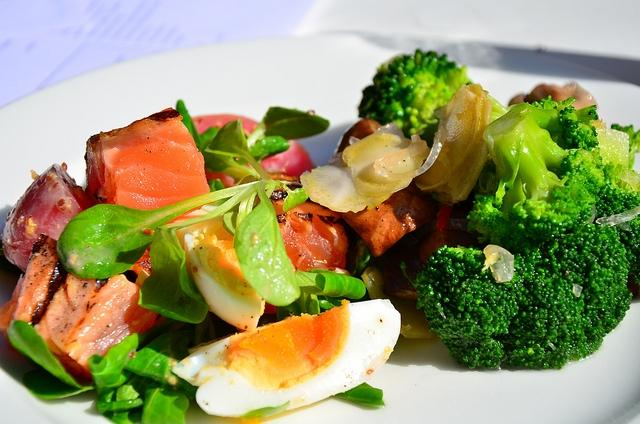broccoli: (413, 224, 632, 370), (467, 95, 606, 255), (358, 49, 509, 149), (595, 178, 640, 295), (611, 123, 640, 169)
